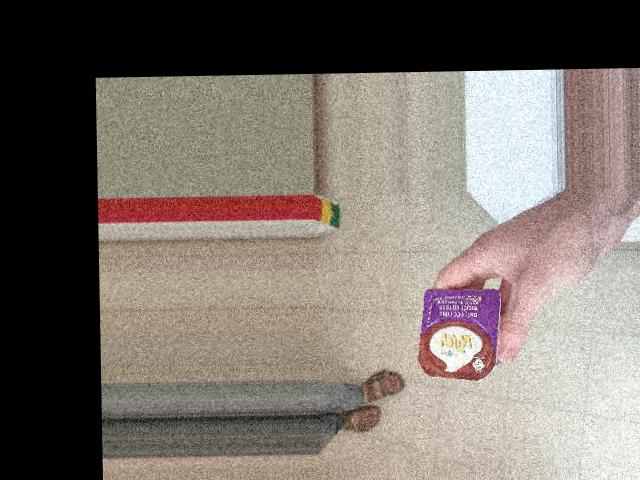milky: (400, 280, 509, 367)
